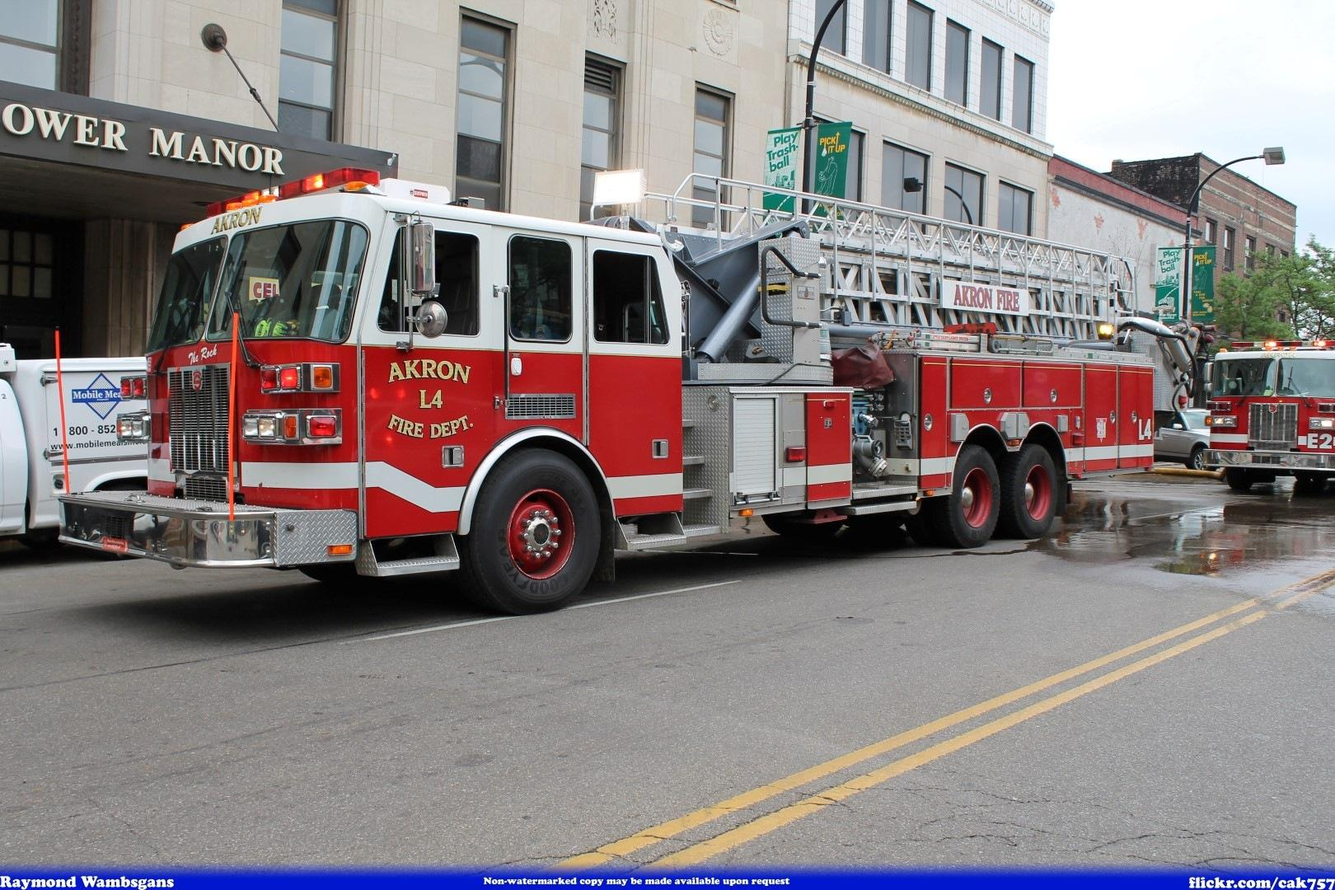water accumulation: (1027, 494, 1335, 578)
